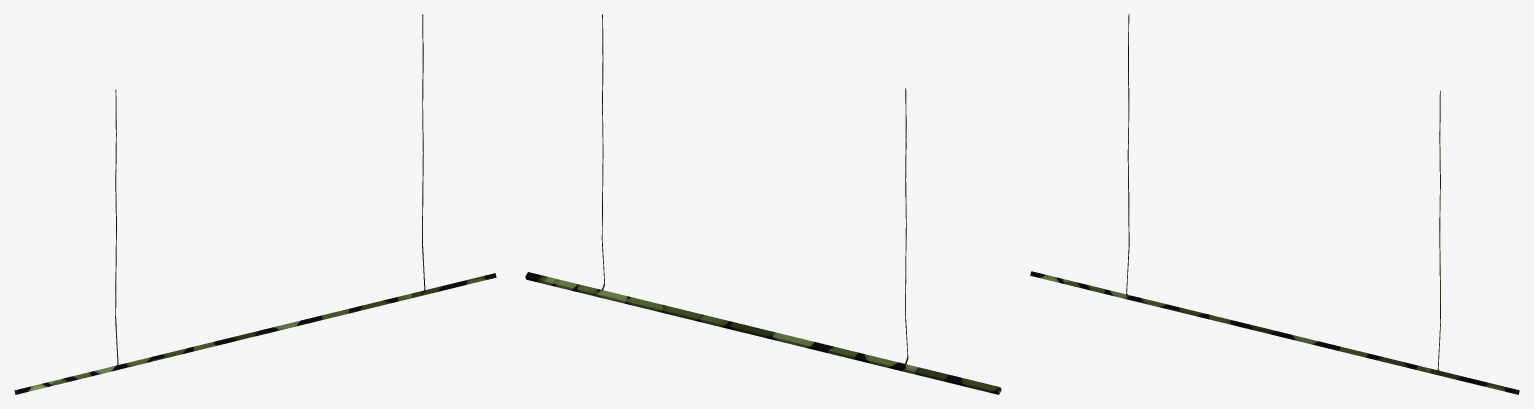
File: modern_scandinavian_kitchen_island_14.obj
3 renders of one model, left to right at view 1: azimuth 30°, elevation 25°; view 2: azimuth 150°, elevation 25°; view 3: azimuth 330°, elevation 25°, orthographic. The views are drawn at different scales.
Size of the model in its own units: 1.72 by 0.9799 by 0.0412.
